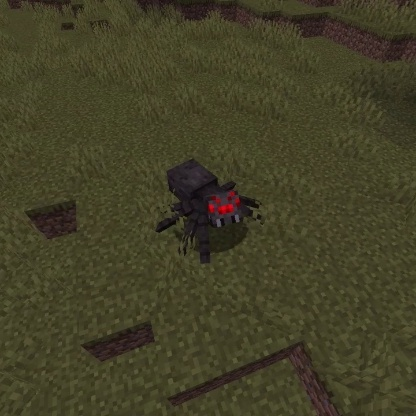spider: (152, 155, 268, 269)
